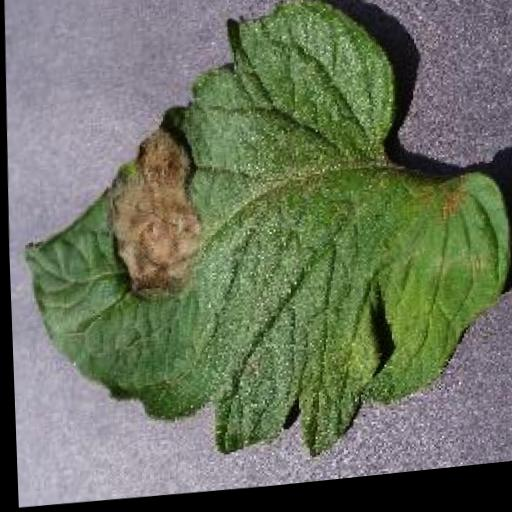Late Blight: (10, 0, 512, 491)
